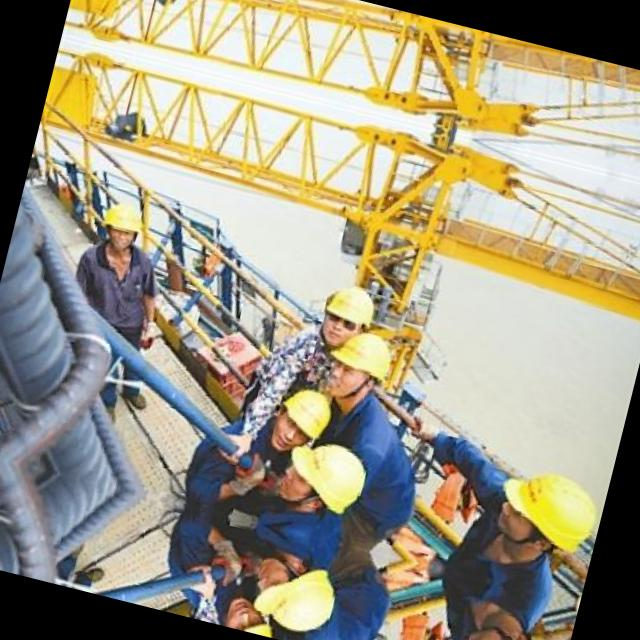helmet: (481, 452, 607, 576), (264, 428, 370, 528), (236, 540, 342, 639), (314, 319, 402, 407), (263, 376, 340, 461), (307, 274, 381, 352), (449, 603, 571, 640), (92, 192, 152, 260), (219, 592, 288, 638)
